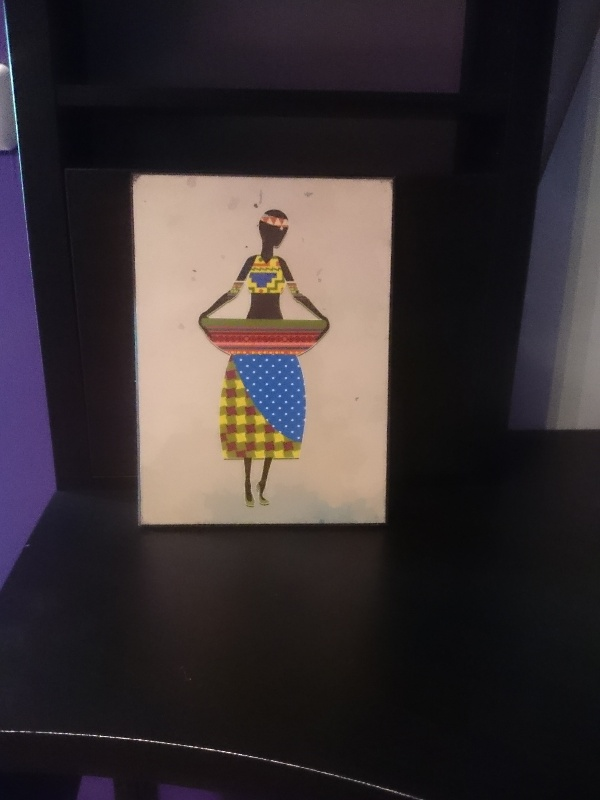my image: (134, 176, 395, 527)
